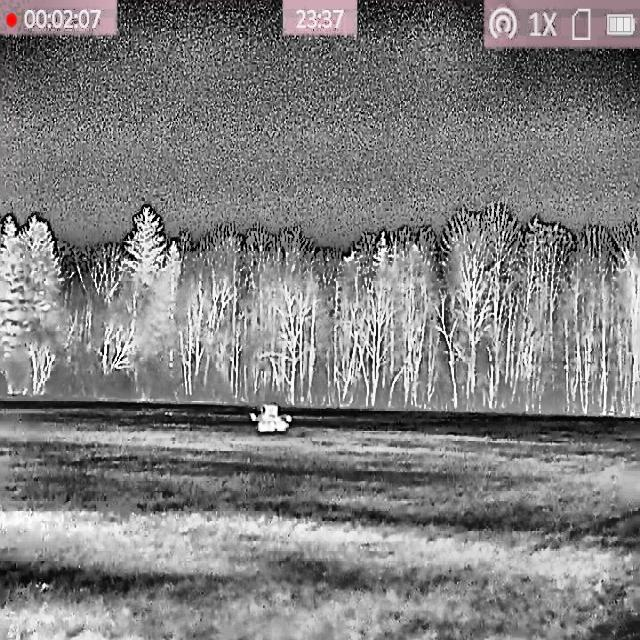drone: (250, 400, 294, 434)
